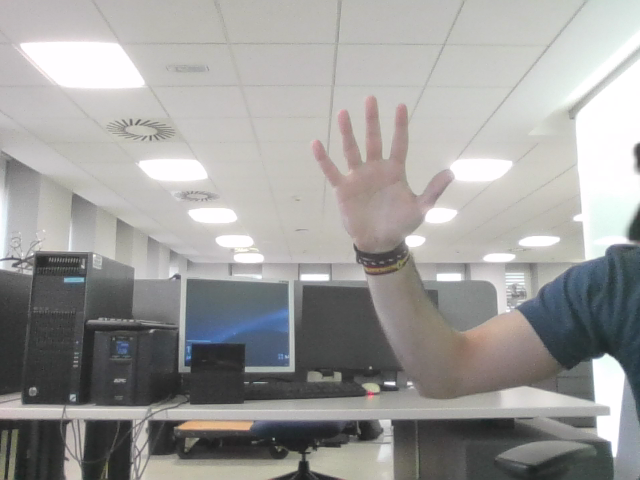Mano Abierta: (321, 108, 438, 222)
